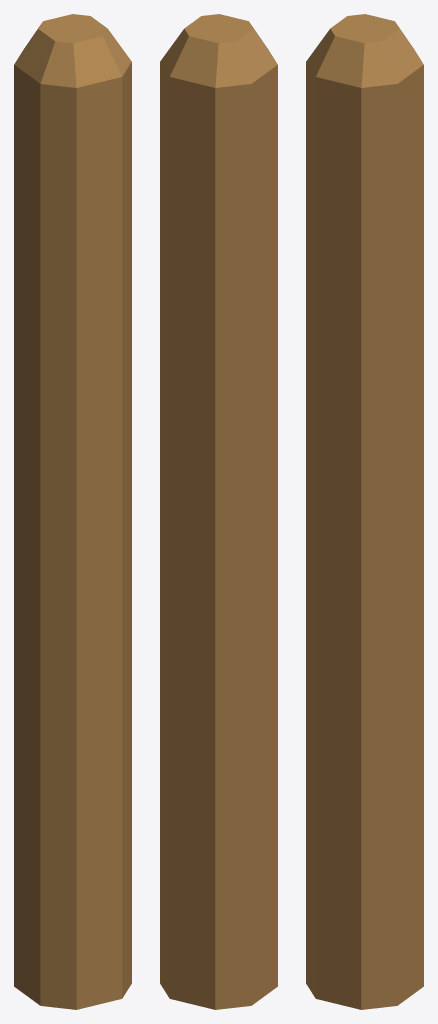
Rendered from 3D_Columna.fbx.
3 renders of one model, left to right at view 1: azimuth 30°, elevation 25°; view 2: azimuth 150°, elevation 25°; view 3: azimuth 330°, elevation 25°, orthographic.
Parts seen in each view (by area): view 1: Columna; view 2: Columna; view 3: Columna.
Boxes of the visible parts, x1,y1,x2,y2 form: Columna: (14, 14, 131, 1009); Columna: (160, 14, 277, 1009); Columna: (306, 14, 423, 1009).
Bounding box in the file's own units: 30 × 300 × 30.
